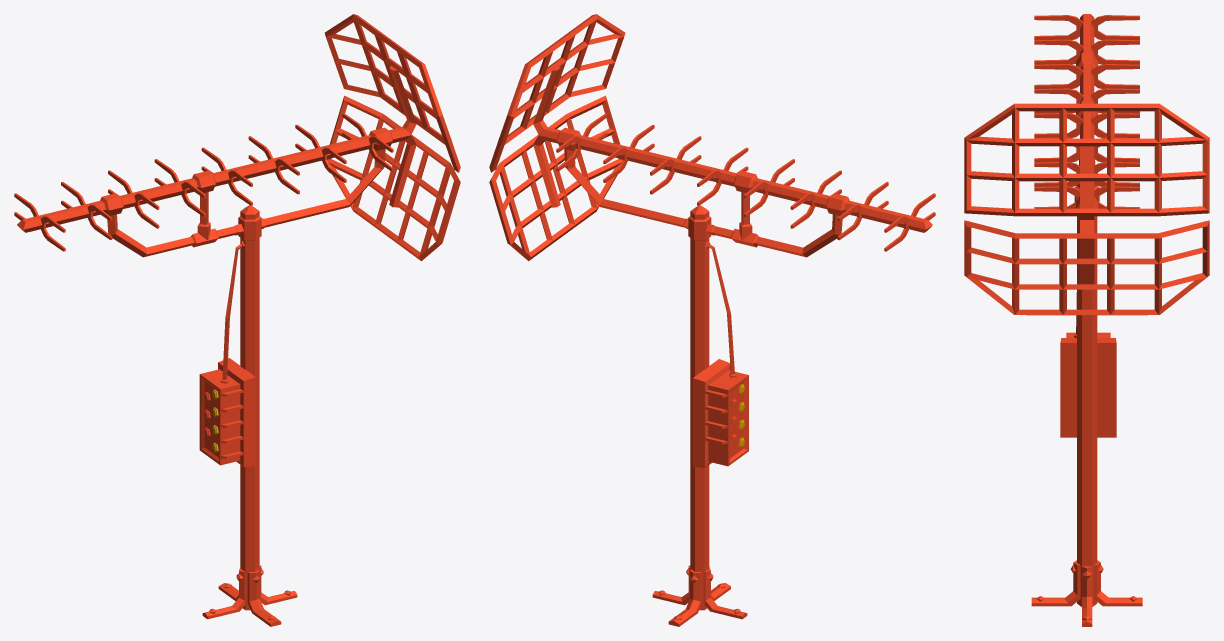
The model's file is SM_Satellite_E_City.fbx.
The picture shows the model from 3 angles, left to right: view 1: azimuth 30°, elevation 25°; view 2: azimuth 150°, elevation 25°; view 3: azimuth 270°, elevation 25°; orthographic projection. The views are drawn at different scales.
Visible parts, largest first — view 1: SM_Satellite_E_City; view 2: SM_Satellite_E_City; view 3: SM_Satellite_E_City.
Boxes of the visible parts, x1,y1,x2,y2 form: SM_Satellite_E_City: (14, 14, 460, 626); SM_Satellite_E_City: (489, 14, 935, 626); SM_Satellite_E_City: (964, 14, 1209, 626).
Size of the model in its own units: 1.3 by 1.66 by 0.6456.
